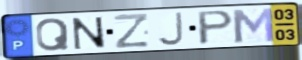J: (156, 11, 186, 47)
M: (230, 7, 277, 44)
N: (70, 16, 108, 51)
P: (197, 9, 237, 47)
Q: (35, 17, 71, 53)
Z: (112, 12, 151, 50)
